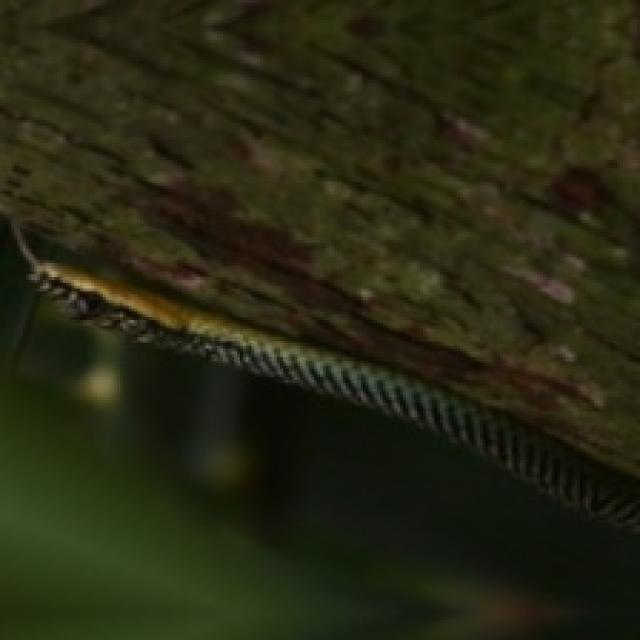paradise tree snake: (0, 217, 637, 637), (0, 220, 554, 549), (46, 280, 637, 529)
